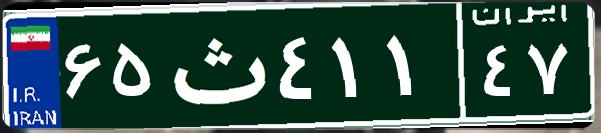1: (385, 28, 445, 110), (330, 28, 385, 110)
4: (273, 28, 330, 110), (475, 38, 525, 113)
5: (110, 28, 158, 105)
6: (57, 26, 110, 107)
7: (525, 38, 570, 115)
ث: (158, 15, 273, 115)
